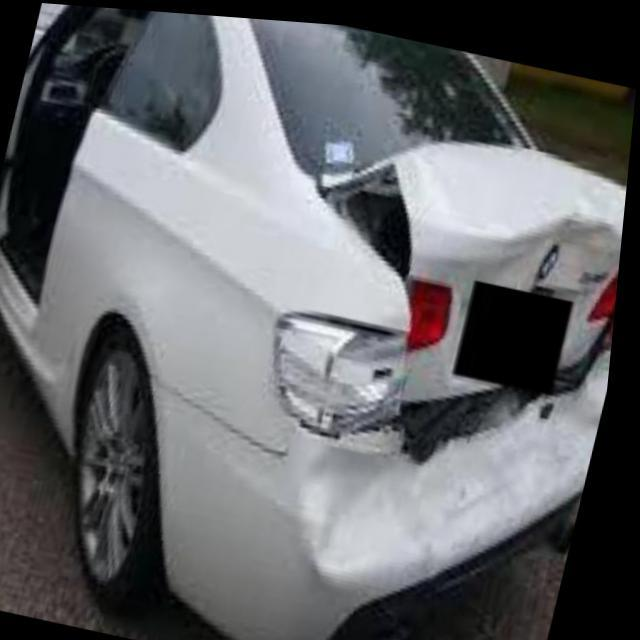dislocated part: (282, 138, 629, 601)
